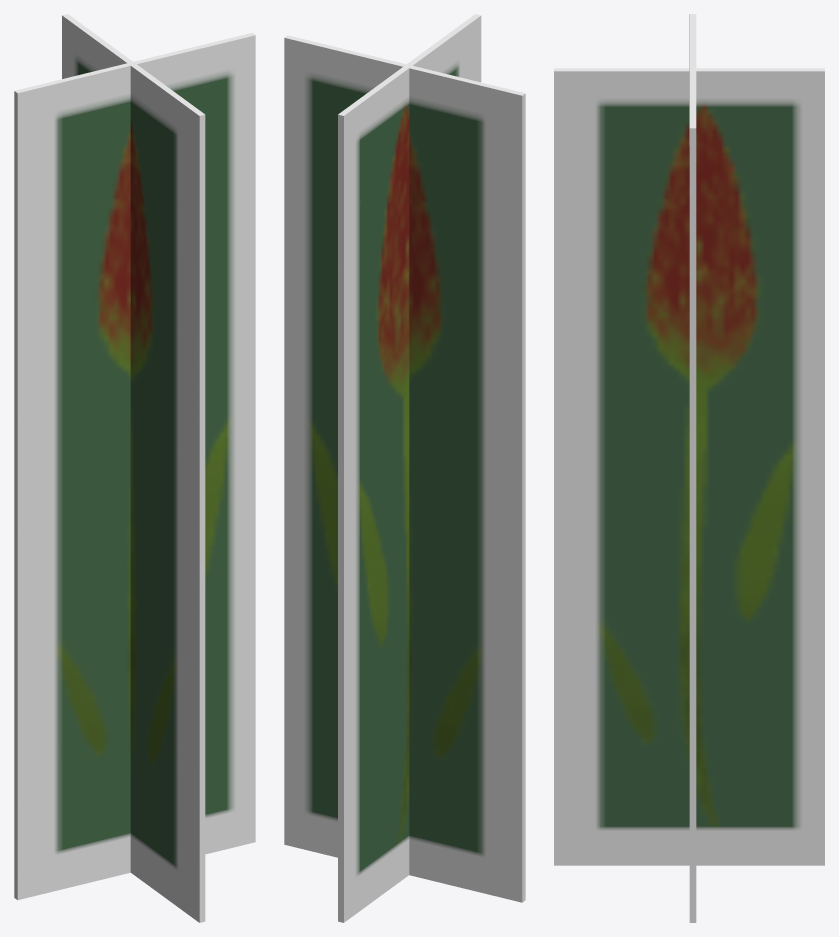
Rendered from Flower4.fbx.
The picture shows the model from 3 angles, left to right: view 1: azimuth 30°, elevation 25°; view 2: azimuth 150°, elevation 25°; view 3: azimuth 270°, elevation 25°; orthographic projection.
Parts seen in each view (by area): view 1: n_grass_diff_0_22; view 2: n_grass_diff_0_22; view 3: n_grass_diff_0_22.
Part boxes in pixels (x1,y1,x2,y2): n_grass_diff_0_22: (14,14,255,922); n_grass_diff_0_22: (284,14,525,922); n_grass_diff_0_22: (554,14,824,922).
Bounding box in the file's own units: 40.47 × 131 × 40.47.
